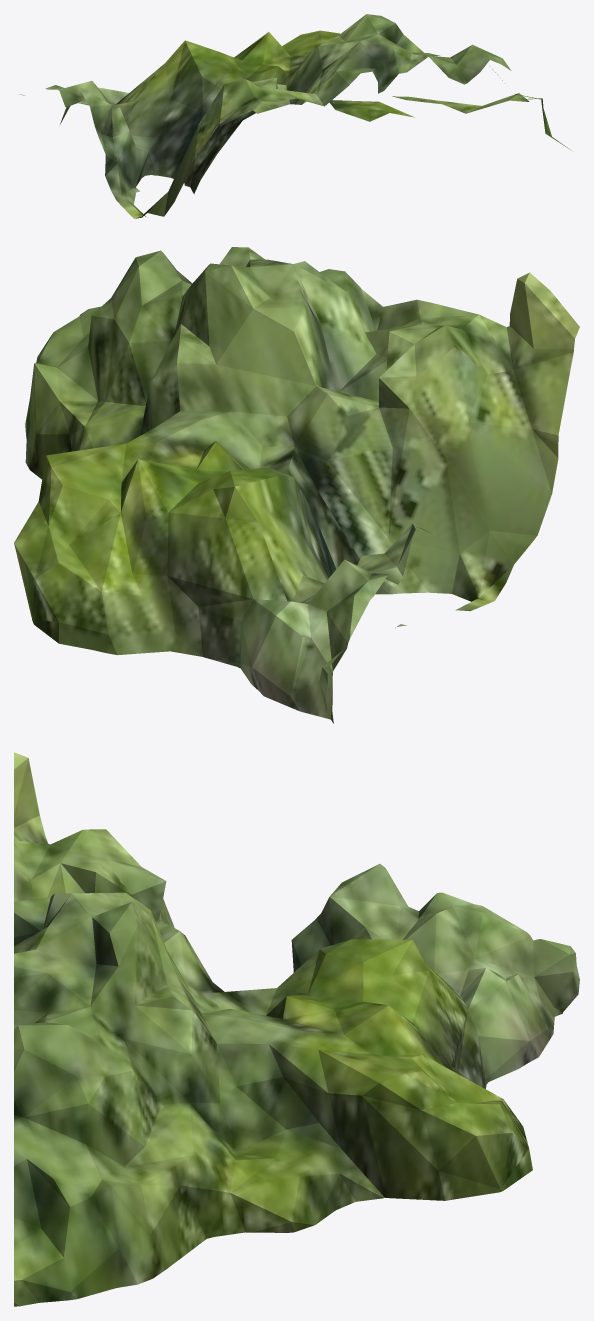
The picture shows the model from 3 angles, top to bottom: view 1: azimuth 30°, elevation 25°; view 2: azimuth 150°, elevation 25°; view 3: azimuth 270°, elevation 25°; orthographic projection. The views are drawn at different scales.
Size of the model in its own units: 12.94 by 5.89 by 10.47.
1 material, 1 textured.
